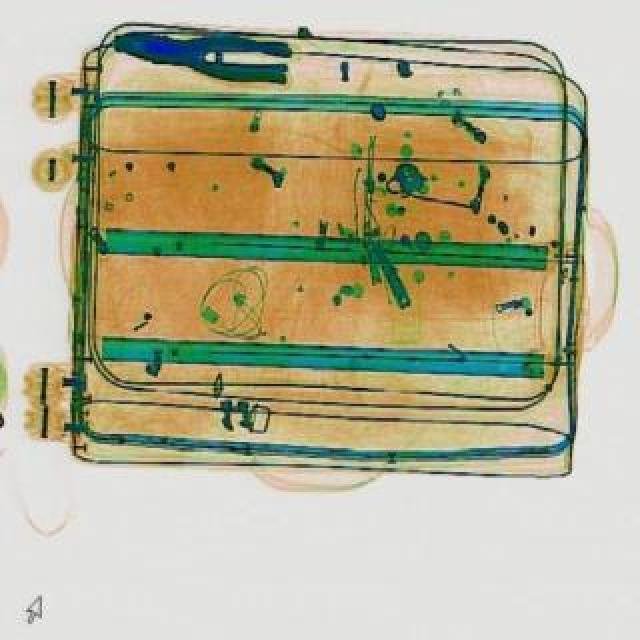wrench: (110, 20, 294, 84)
